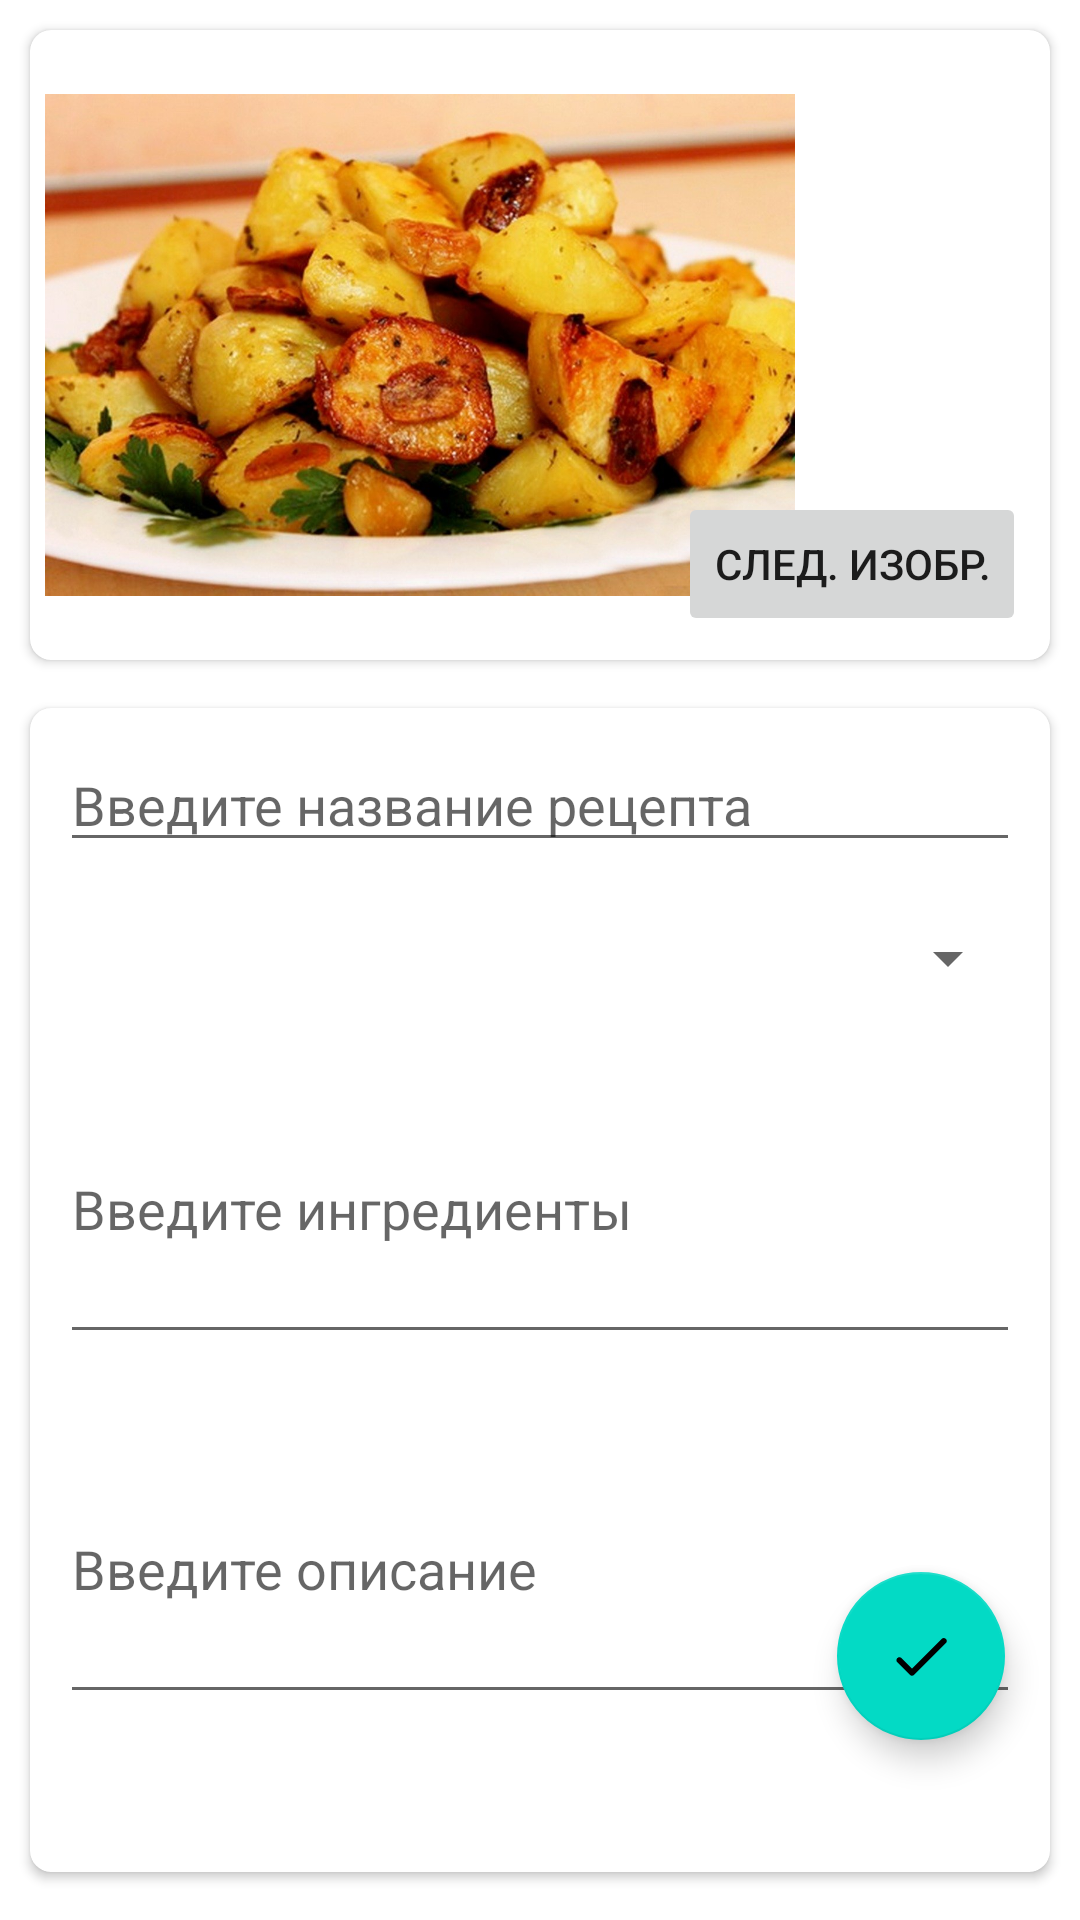

Where icons sit on this 1080×1920 app screen, as (x1, y1, x2, y2):
done: (837, 1572, 1005, 1740)
